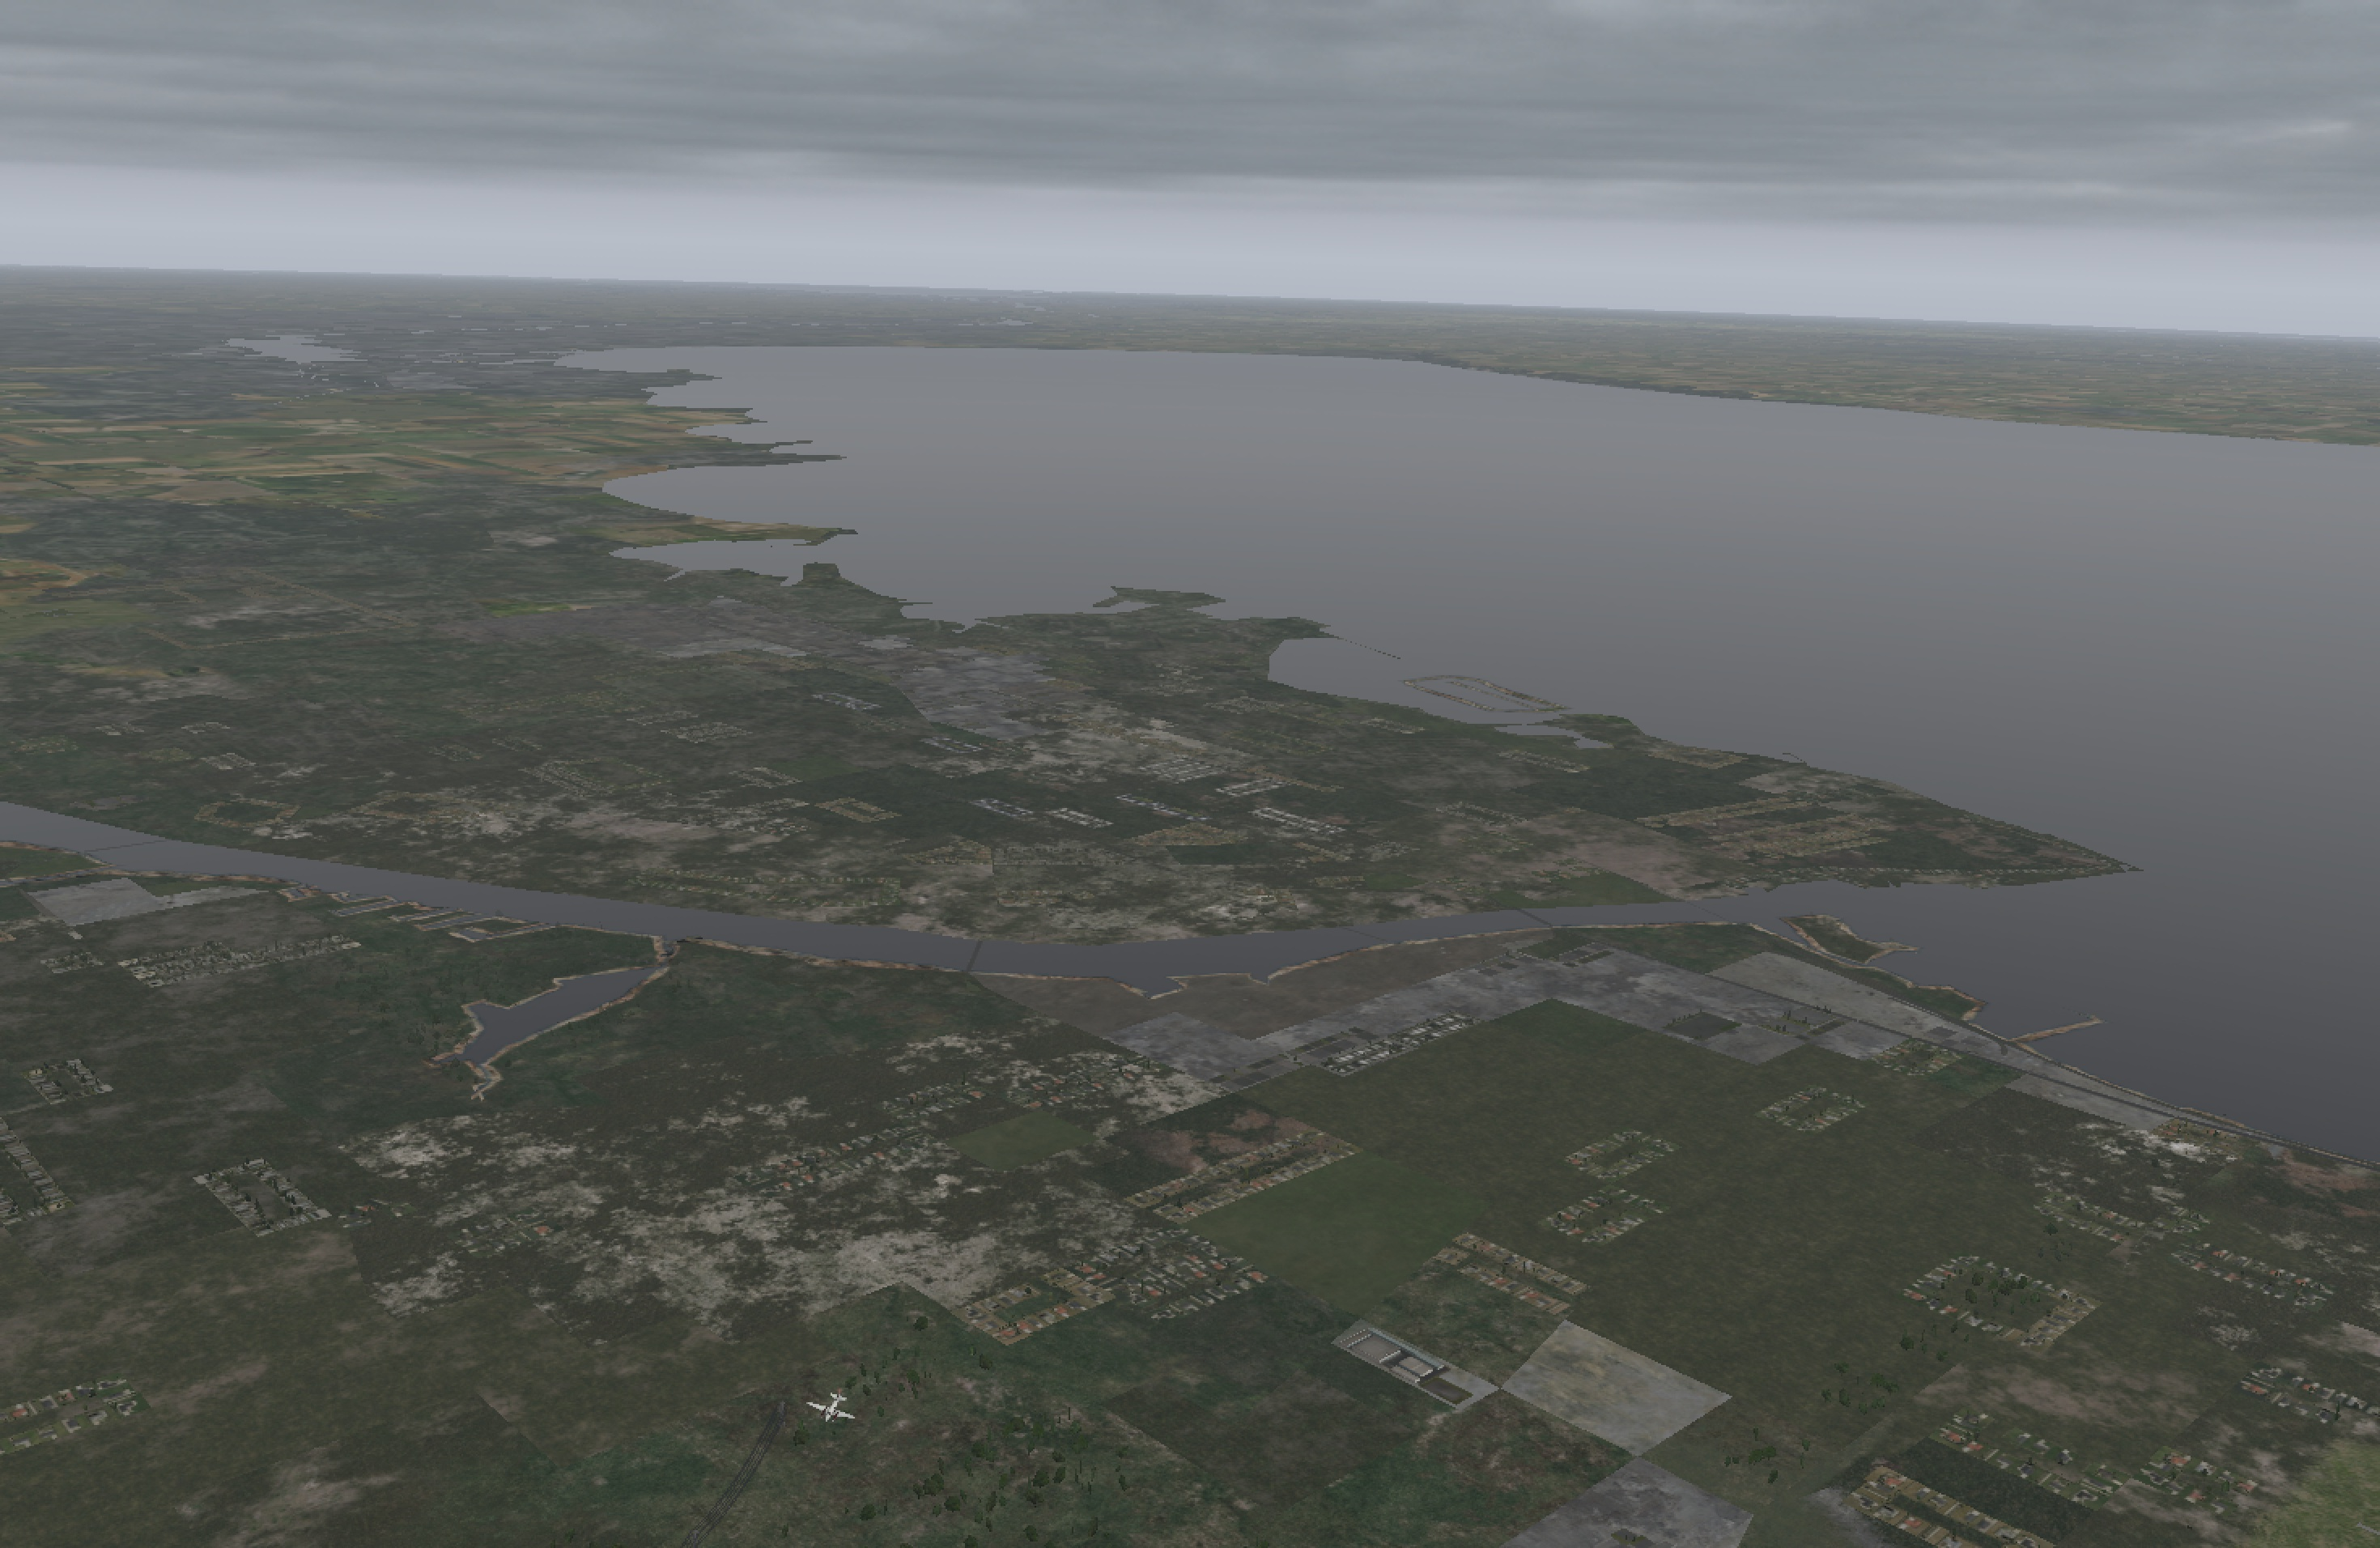aircraft: (805, 1404, 855, 1423)
